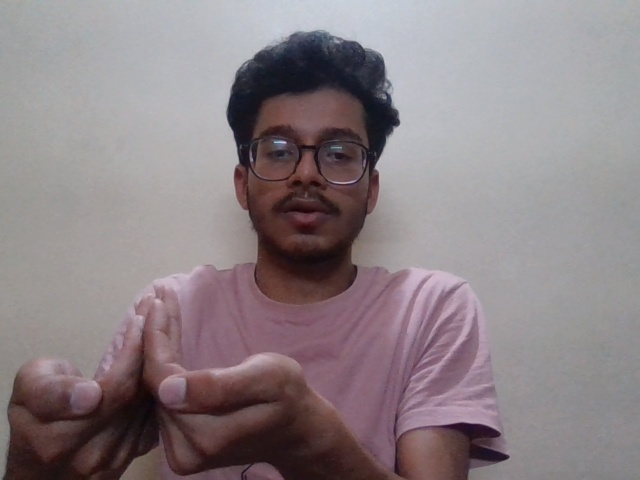tomorrow: (1, 284, 303, 475)
